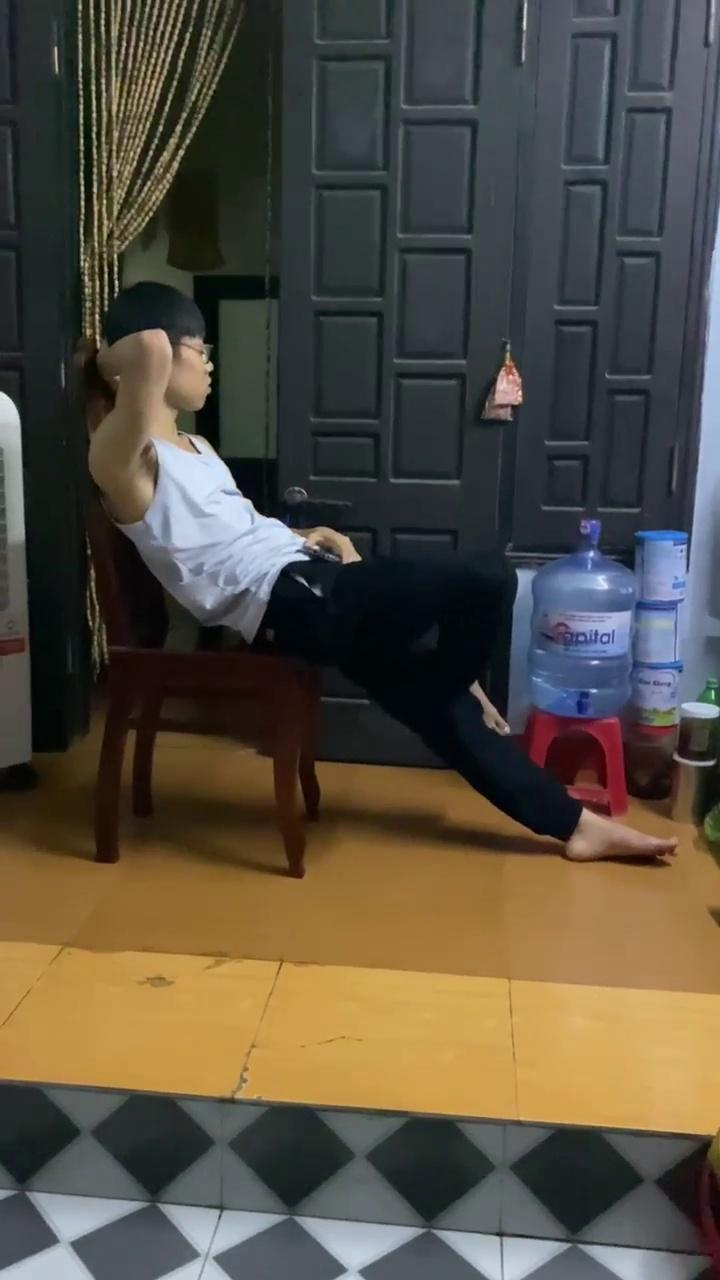BadPosture: (84, 282, 674, 860)
